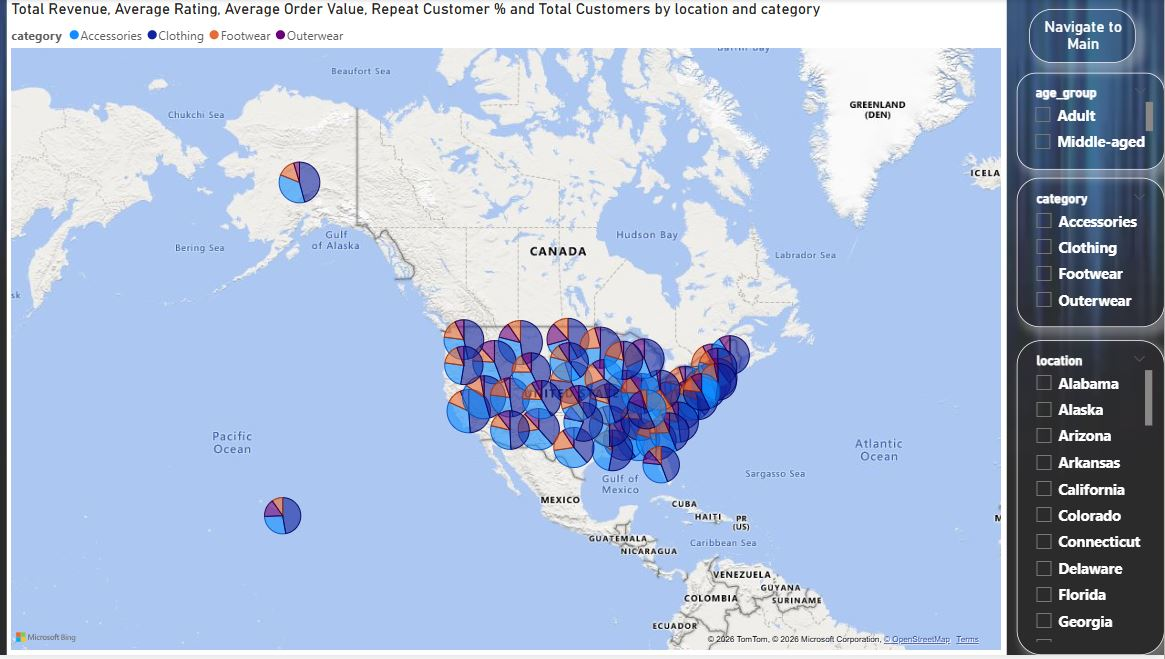

Layout of this report page (visuals, bound fields, positions):
{"tool":"powerbi","page":{"name":"Map Visual","canvas":[1280,720],"ordinal":1},"visuals":[{"type":"map","fields":{"Size":["customer_shopping_cleaned.Total Revenue"],"Category":["customer_shopping_cleaned.location"],"Series":["customer_shopping_cleaned.category"]},"box":[9.6,0,1097.2,720],"z":0},{"type":"slicer","fields":{"Values":["customer_shopping_cleaned.location"]},"box":[1117.8,374.4,162.4,345.5],"z":1000},{"type":"slicer","fields":{"Values":["customer_shopping_cleaned.category"]},"box":[1117.8,196.9,162.4,163.8],"z":2000},{"type":"slicer","fields":{"Values":["customer_shopping_cleaned.age_group"]},"box":[1117.8,81.2,162.4,106],"z":3000},{"type":"actionButton","title":"Navigate to Main","box":[1131.6,11,117,59.2],"z":3001}]}

Visuals, with their boxes in screenshot pixels (x1, y1, x2, y2), scaled from the page's 1280x720 canvas onto the 1165x659 screenshot:
map - customer_shopping_cleaned.Total Revenue x customer_shopping_cleaned.location: [9,0,1007,658]
slicer - customer_shopping_cleaned.location: [1017,343,1164,658]
slicer - customer_shopping_cleaned.category: [1017,180,1164,330]
slicer - customer_shopping_cleaned.age_group: [1017,74,1164,171]
"Navigate to Main" actionButton: [1030,10,1136,64]
